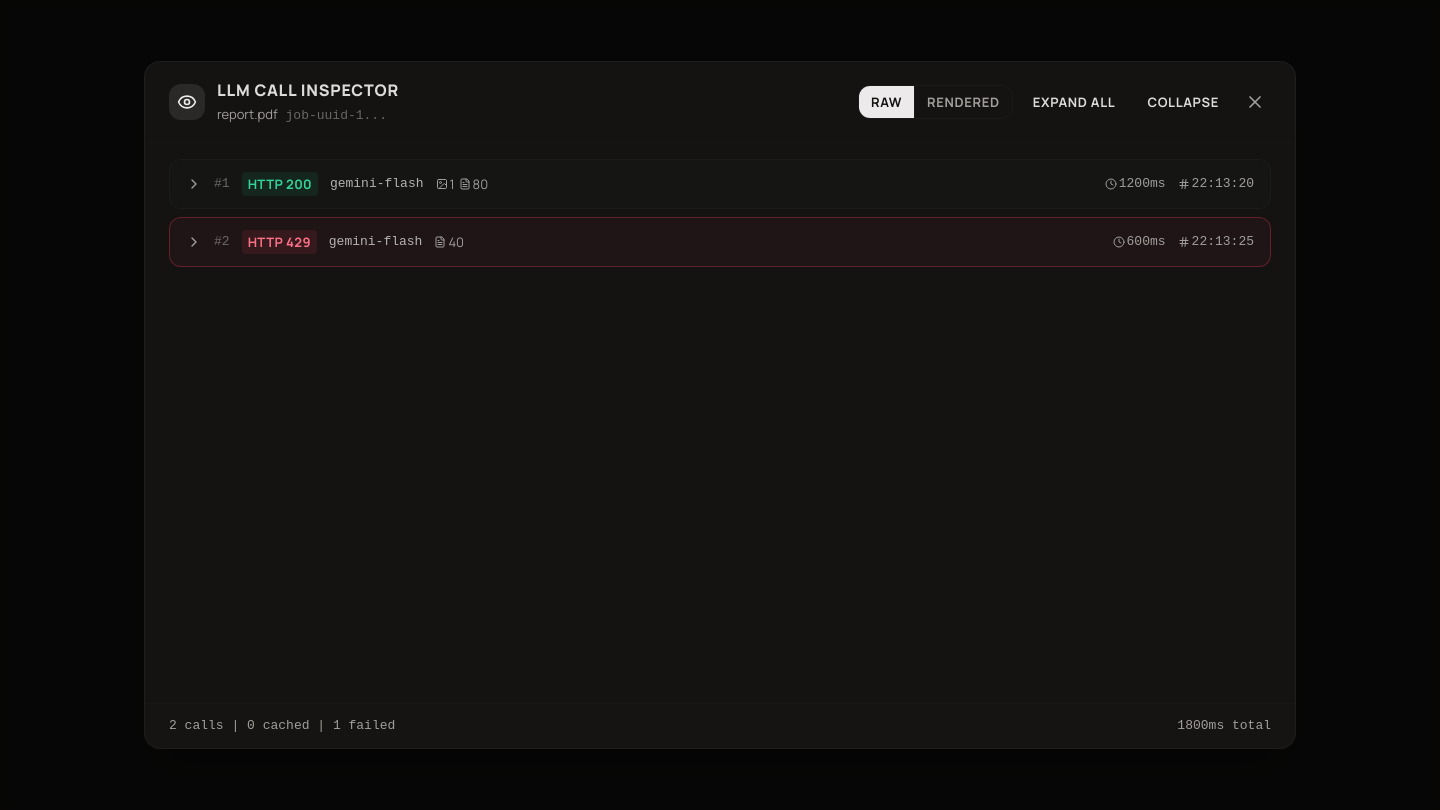
Test case: LlmTraceViewer › toggles between Raw and Rendered view modes
Click the text "HTTP 200" at (280, 184), box left=242, top=172, right=318, bottom=196
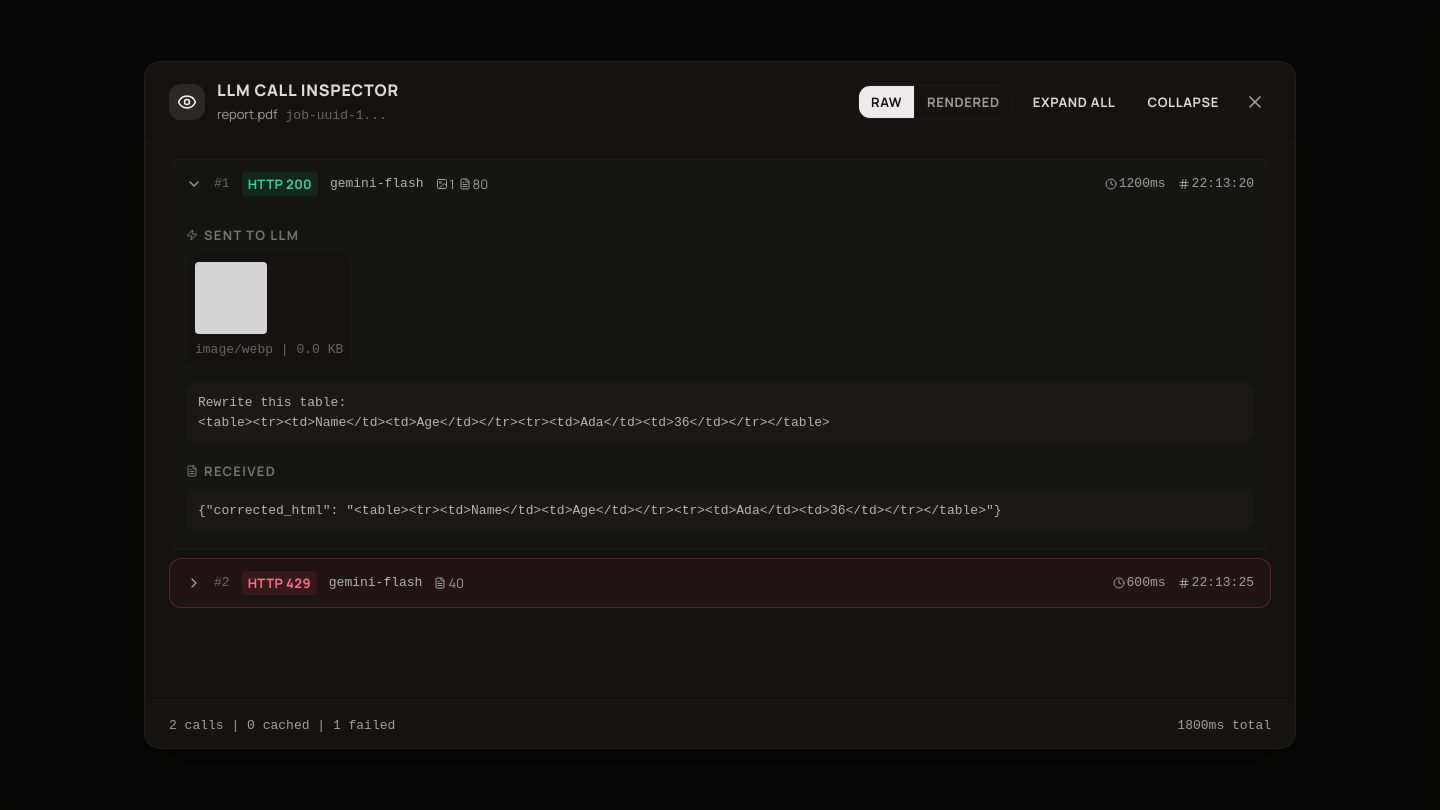
# Default is Raw. Switch to Rendered.
Click the button "Rendered" at (963, 102), box left=914, top=86, right=1012, bottom=118
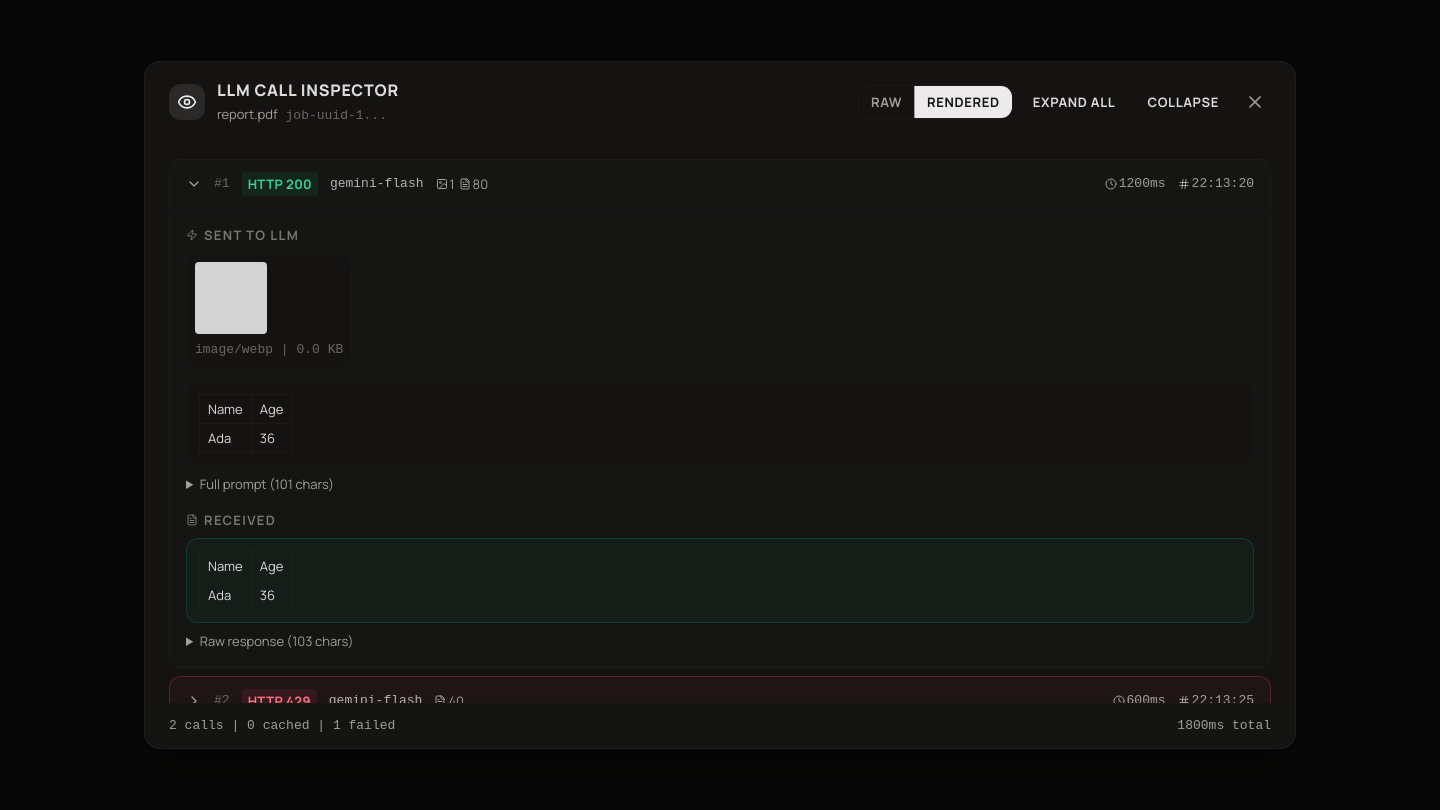
Expected: the table "Name Age Ada 36" below "image/webp" is shown, left=199, top=394, right=292, bottom=453
